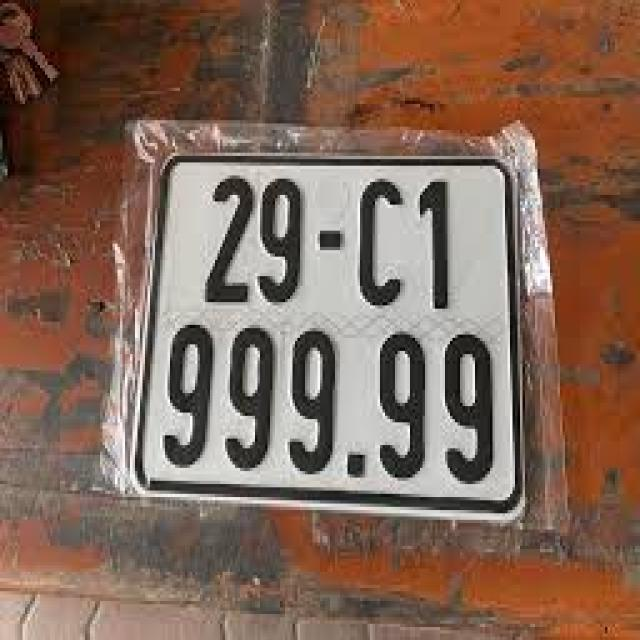a: (125, 145, 547, 538)
bien so: (105, 105, 571, 564)
